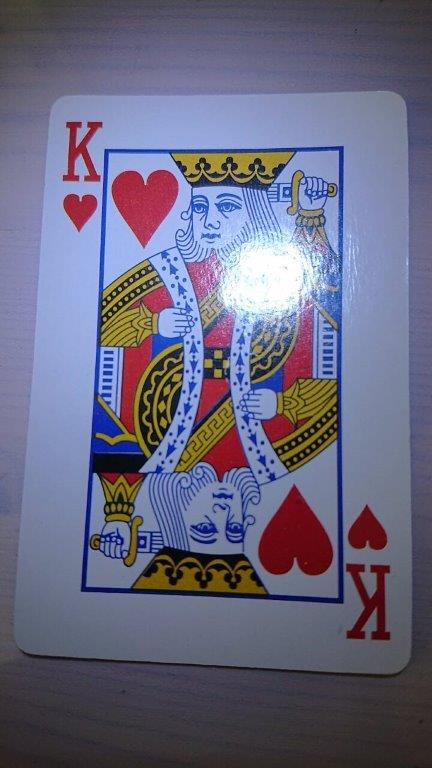KH: (11, 87, 414, 678)
